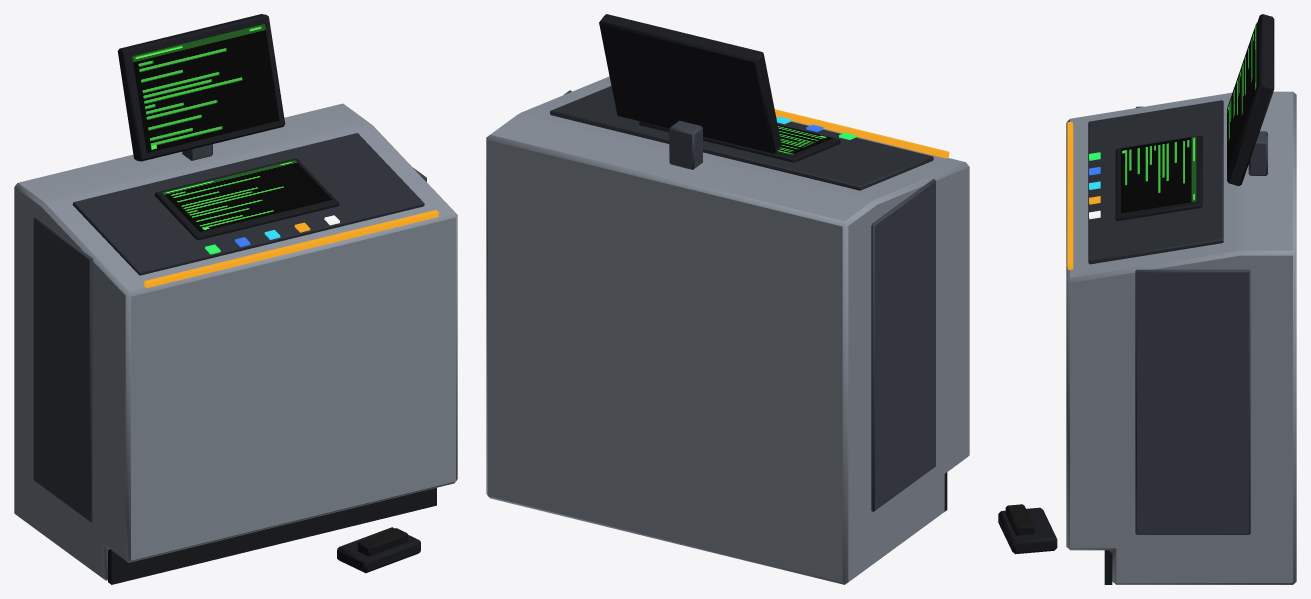
Rendered from console_compact_aux.glb.
3 renders of one model, left to right at view 1: azimuth 30°, elevation 25°; view 2: azimuth 150°, elevation 25°; view 3: azimuth 270°, elevation 25°, orthographic. The views are drawn at different scales.
Parts seen in each view (by area): view 1: console_compact_aux; view 2: console_compact_aux; view 3: console_compact_aux.
Boxes of the visible parts, x1,y1,x2,y2 form: console_compact_aux: [14, 14, 457, 584]; console_compact_aux: [486, 14, 969, 584]; console_compact_aux: [998, 14, 1296, 584].
Size of the model in its own units: 1.02 by 1.31 by 0.7771.
Materials: 11 (1 with a texture image).
